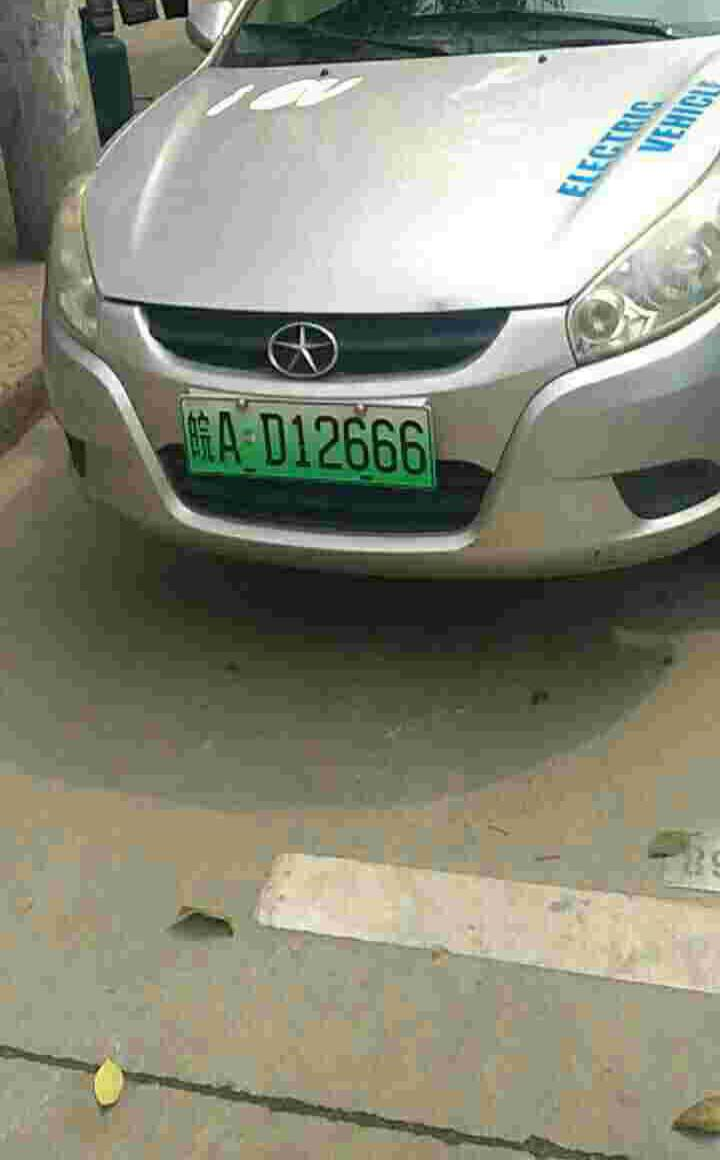car_id: (179, 398, 433, 486)
